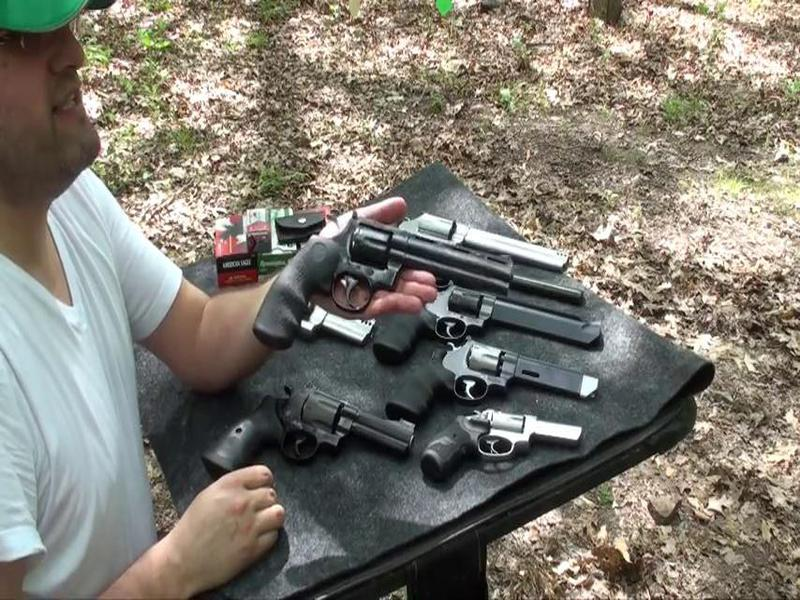Revolver: (270, 208, 517, 336), (233, 383, 417, 472), (429, 401, 588, 480)
